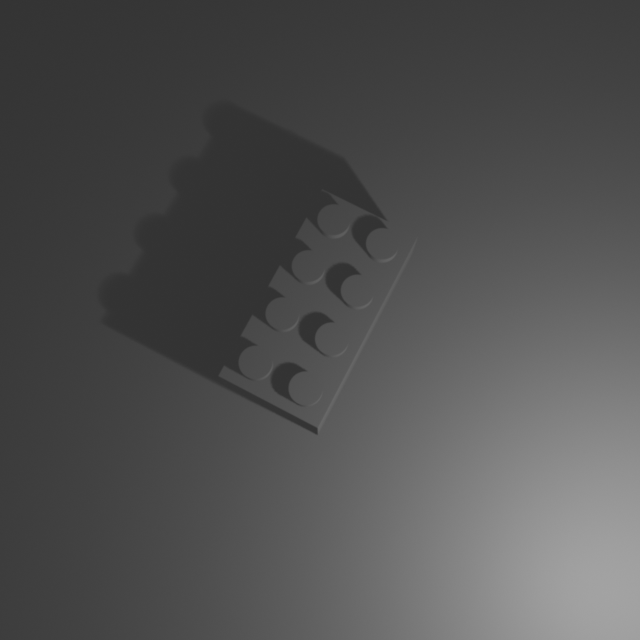lego_2x4: (217, 185, 419, 435)
